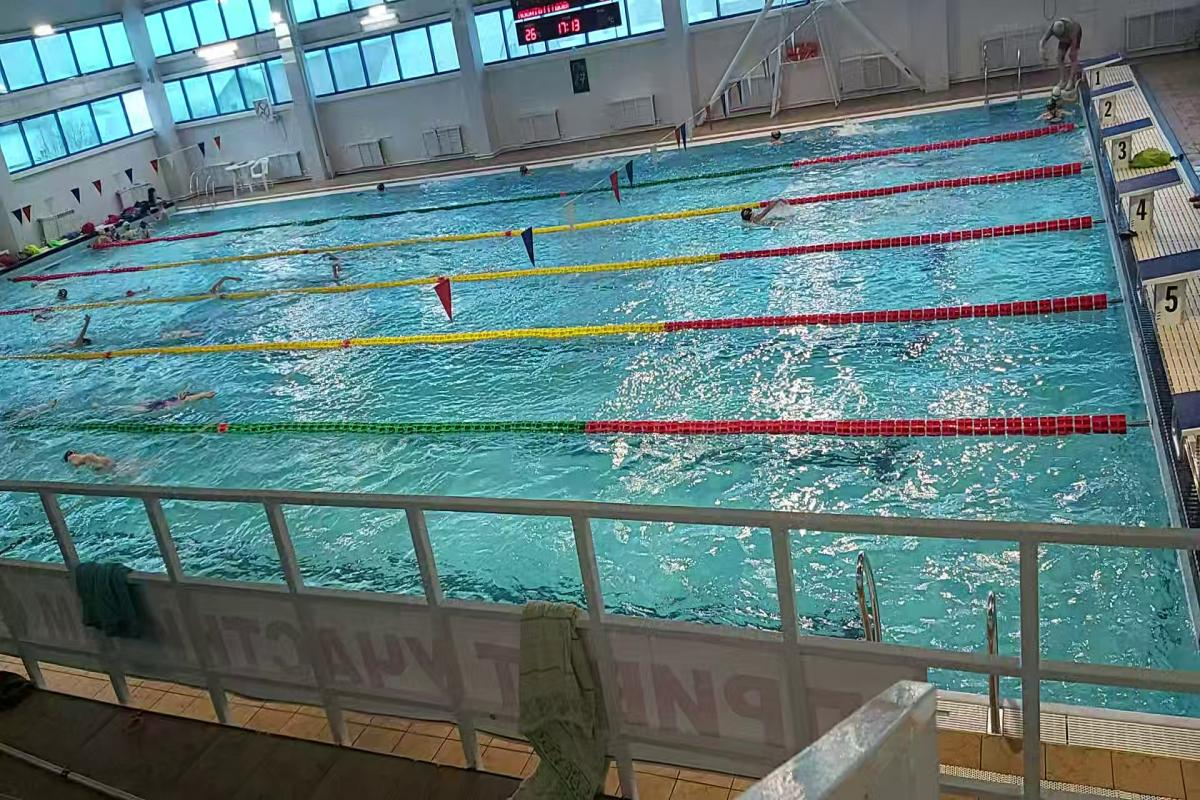swimmer: (121, 370, 221, 418), (54, 444, 154, 480), (733, 194, 797, 231), (51, 305, 103, 349), (198, 272, 251, 292)
